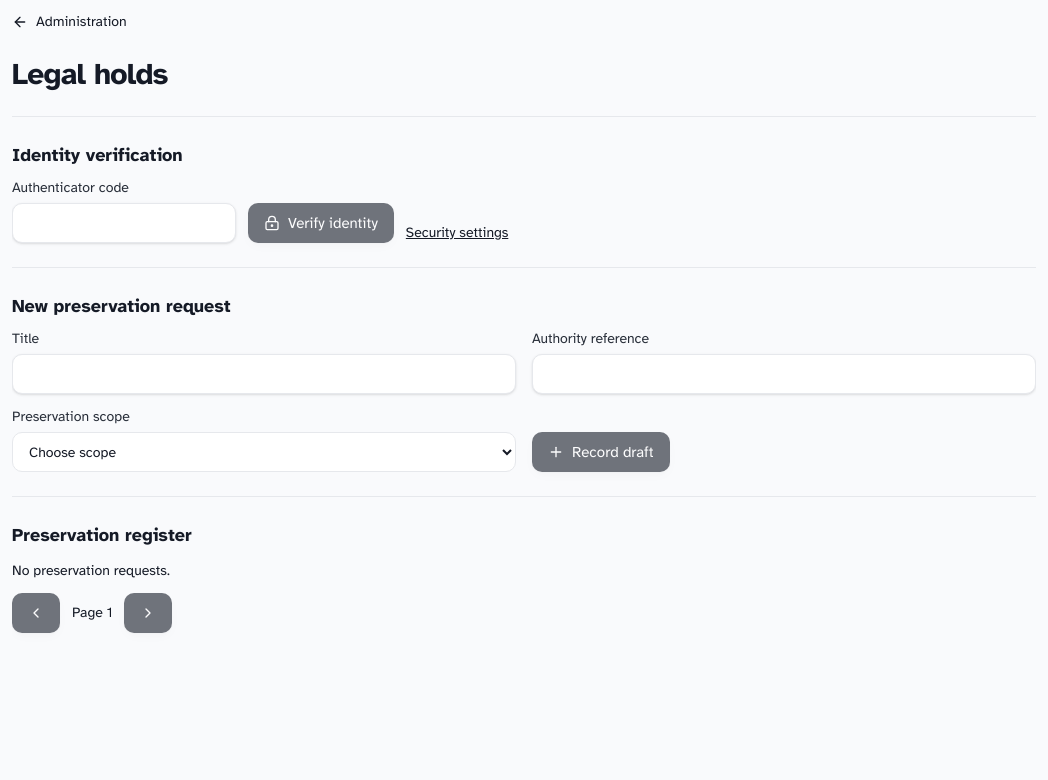
Legal hold commands › retains inputs and has no success feedback after a rejected command
Type "Synthetic preservation" into the field labelled "Title" at {"x": 264, "y": 374}, box top-left (12, 354), bottom-right (516, 394)
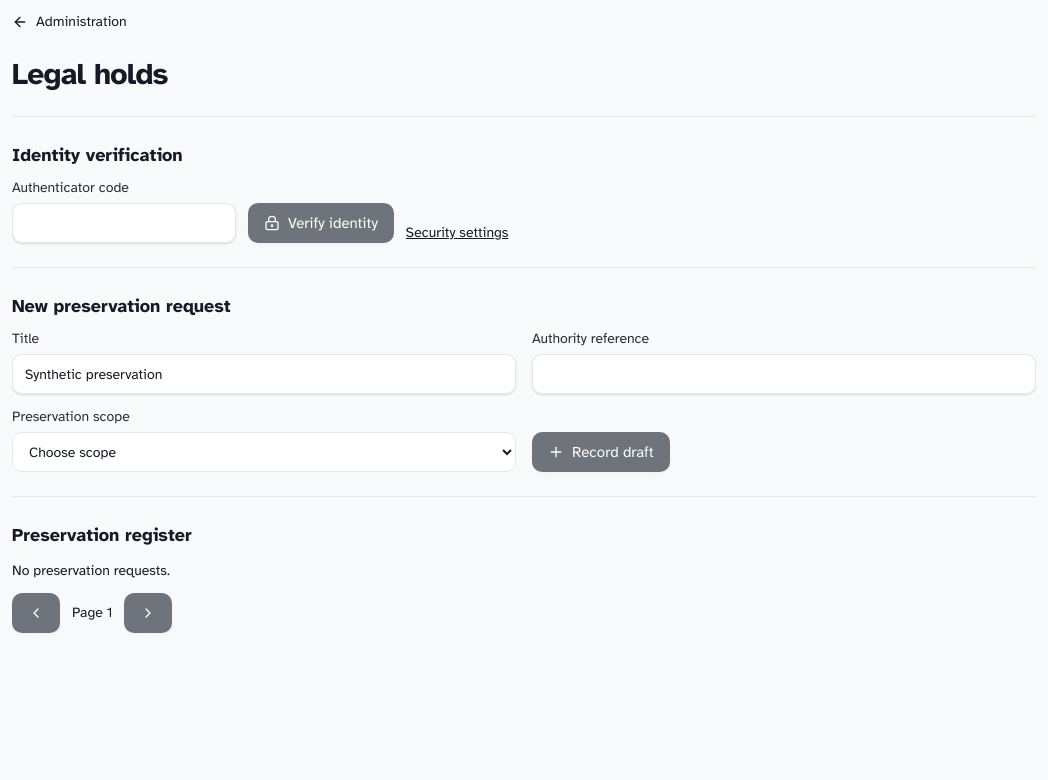
Type "fixture://authority" into the field labelled "Authority reference" at {"x": 784, "y": 374}, box top-left (532, 354), bottom-right (1036, 394)
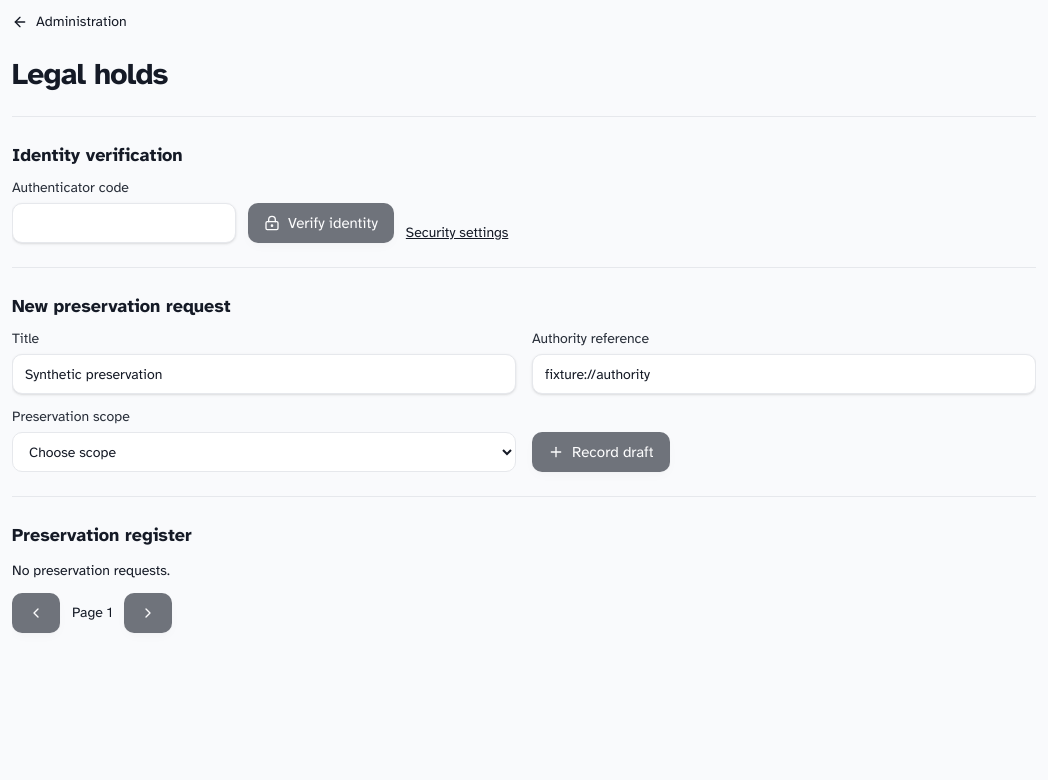
Select "Preservation records" in the dropdown labelled "Preservation scope" at {"x": 264, "y": 452}, box top-left (12, 432), bottom-right (516, 472)
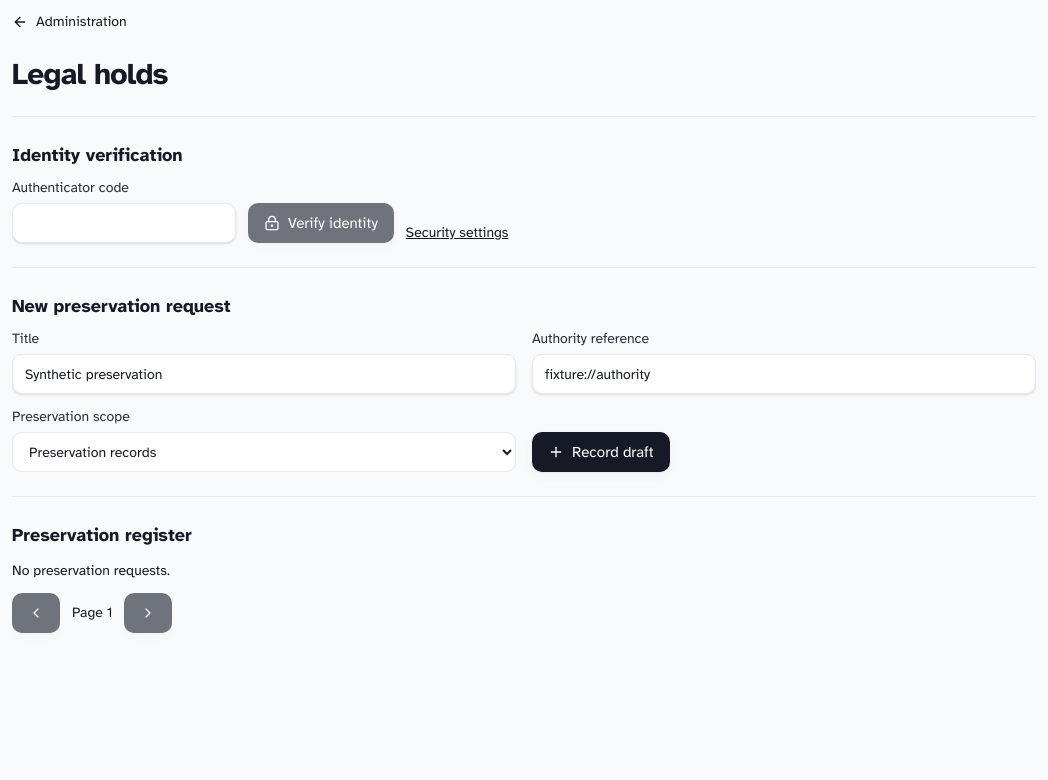
Click the button "Record draft" at {"x": 601, "y": 452}, box top-left (532, 432), bottom-right (670, 472)
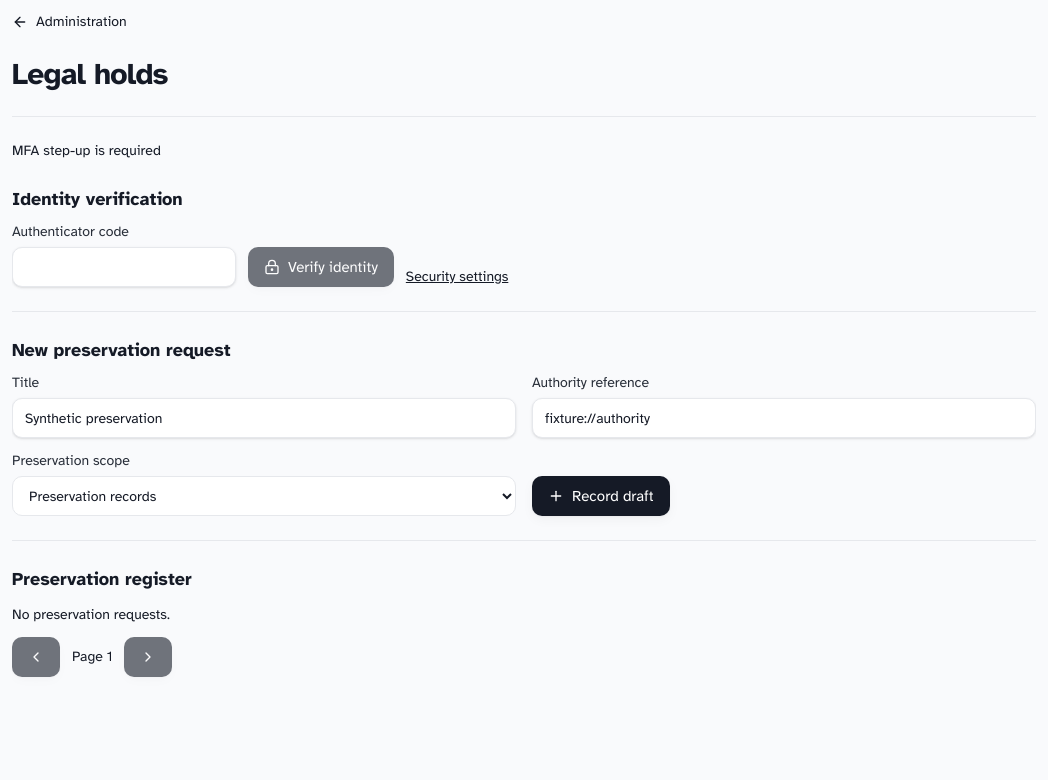
expect the message "MFA step-up is required" is shown: met, box top-left (12, 142), bottom-right (161, 159)
